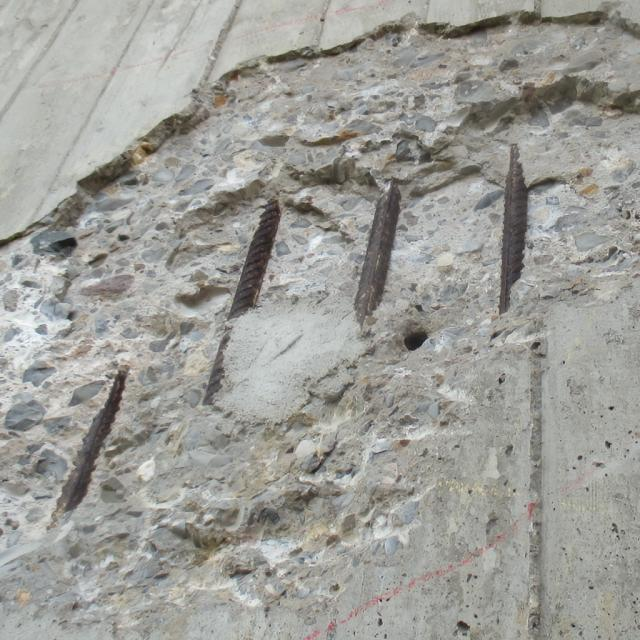D0w0: (0, 2, 629, 629), (22, 6, 637, 393)
